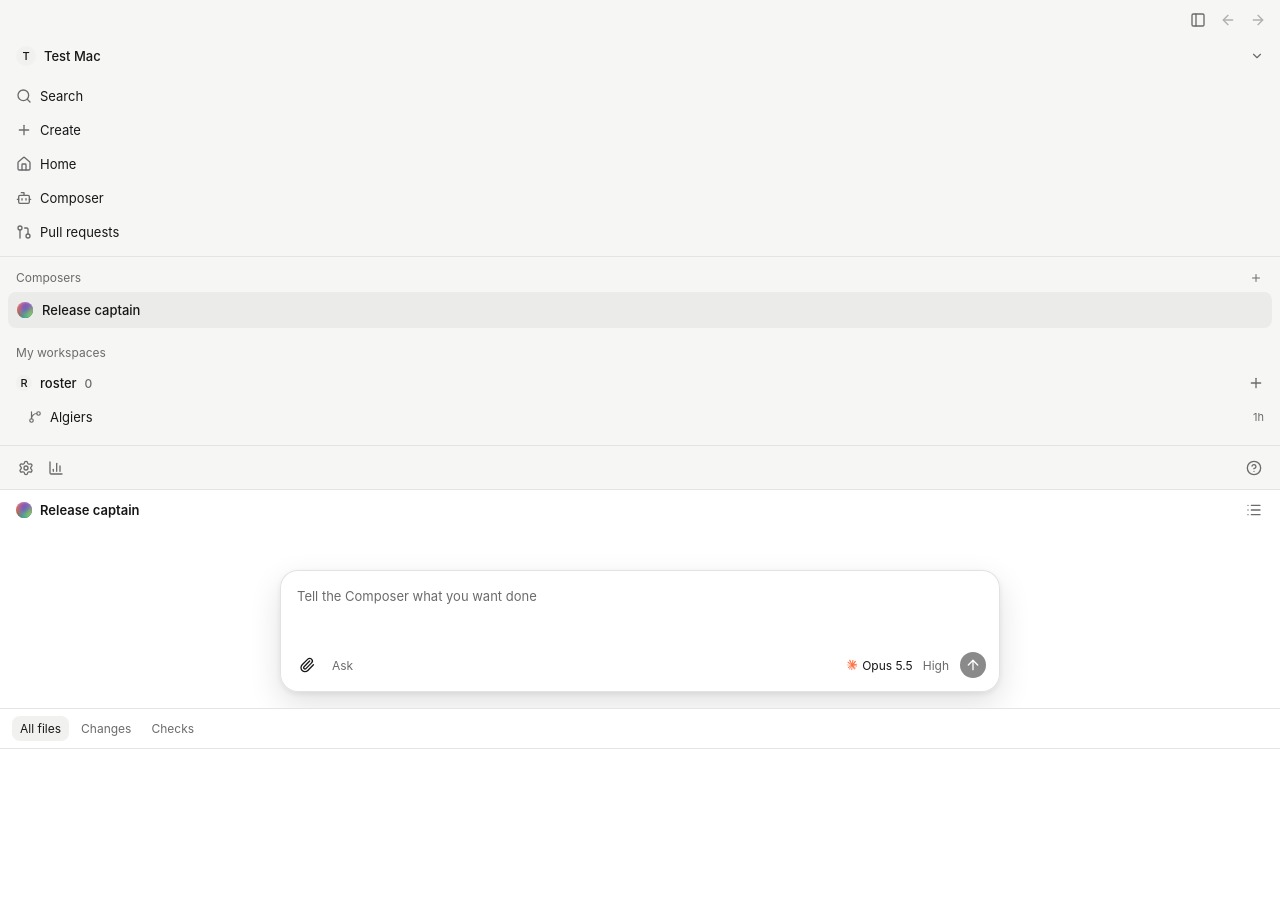
the Fleet section of the run panel › shows no spinner when nothing runs, and no Steps anywhere in the panel
Click the button named "Run details": (1254, 510) [1240,496,1268,524]
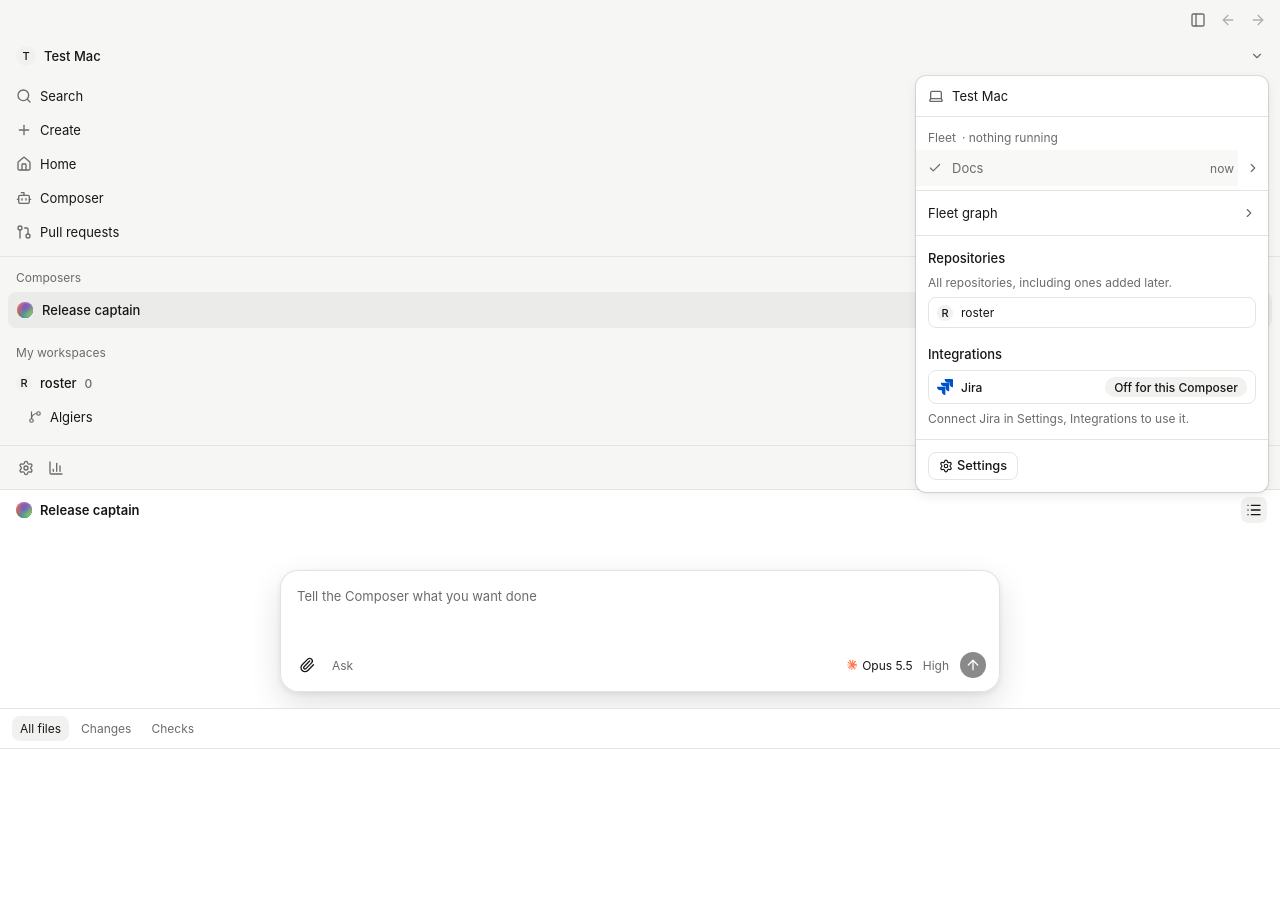
Expected: the element "Fleet" is shown, [916,116,1268,190]
Expected: the button "Fleet graph" is shown, [916,195,1268,231]
Expected: the element "Repositories" is shown, [928,248,1256,328]
